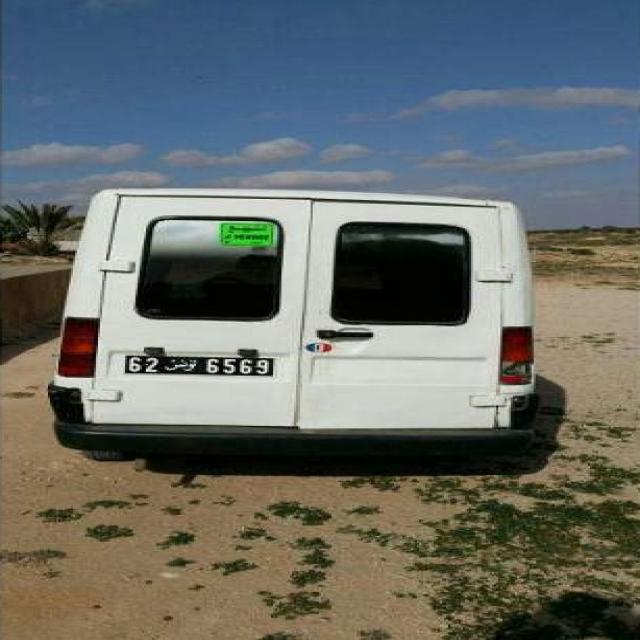licence plate: (125, 356, 274, 376)
